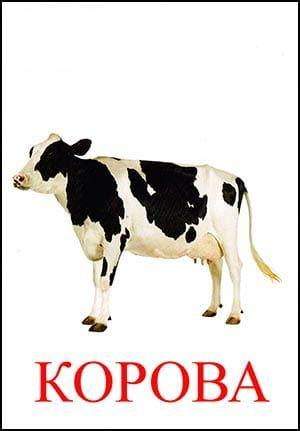cow: (21, 86, 279, 330)
